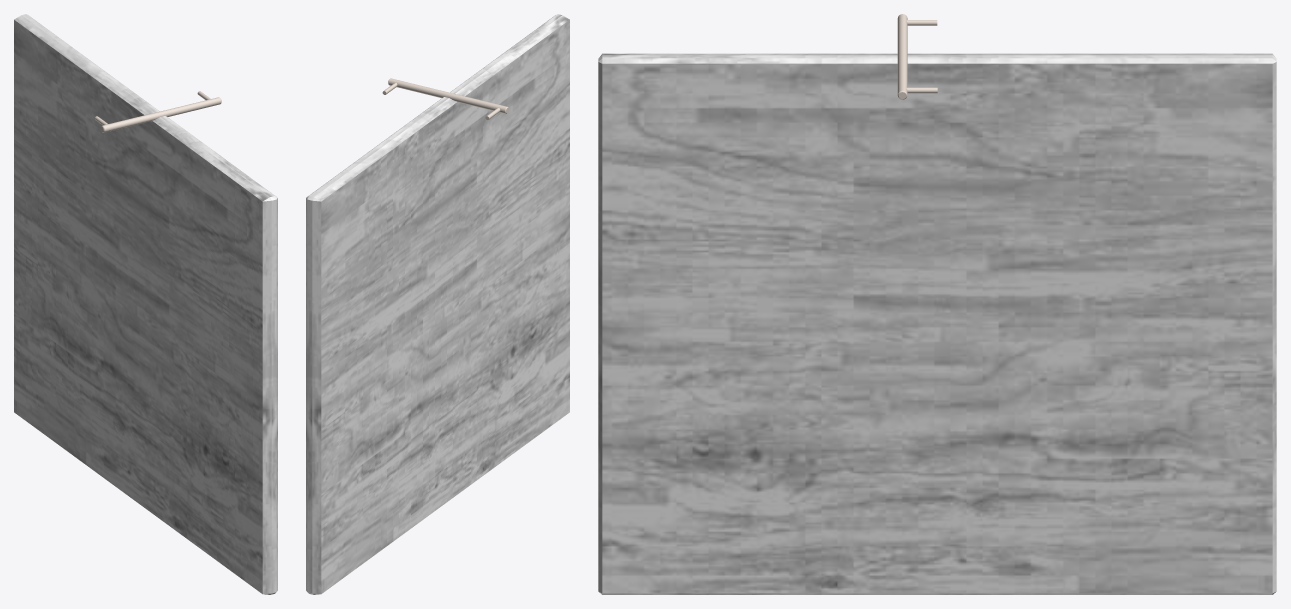
The model's file is Cabinet_c95011d0.obj.
3 renders of one model, left to right at view 1: azimuth 30°, elevation 25°; view 2: azimuth 150°, elevation 25°; view 3: azimuth 270°, elevation 25°, orthographic. The views are drawn at different scales.
Parts seen in each view (by area): view 1: Mesh_f853370b, handle_1_178mm_01_297065f7; view 2: Mesh_f853370b, handle_1_178mm_01_297065f7; view 3: Mesh_f853370b, handle_1_178mm_01_297065f7.
Boxes of the visible parts, x1,y1,x2,y2 form: Mesh_f853370b: (14, 14, 277, 594); handle_1_178mm_01_297065f7: (95, 91, 221, 132); Mesh_f853370b: (306, 14, 569, 594); handle_1_178mm_01_297065f7: (382, 78, 508, 119); Mesh_f853370b: (598, 53, 1276, 594); handle_1_178mm_01_297065f7: (897, 14, 937, 99).
Size of the model in its own units: 0.178 by 0.5787 by 0.6574.
